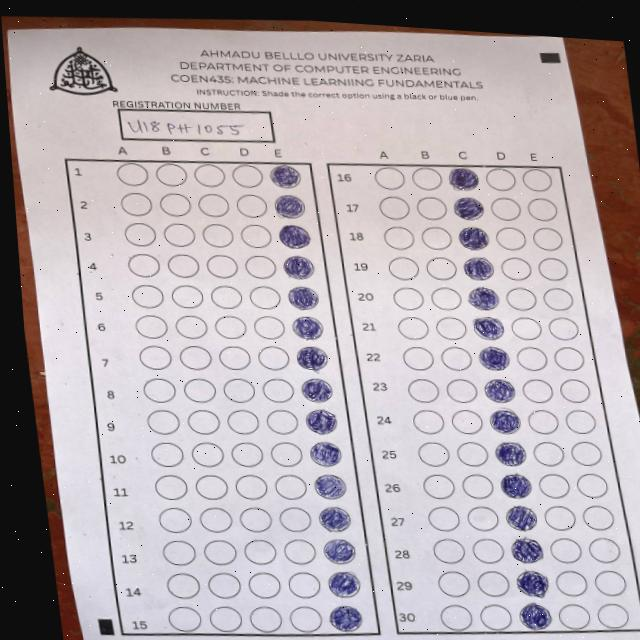bubble: (328, 603, 365, 634), (518, 601, 554, 632), (322, 537, 358, 567), (515, 569, 551, 599), (327, 570, 363, 599), (504, 504, 540, 533), (318, 505, 353, 534), (510, 537, 545, 566), (494, 440, 528, 469), (268, 163, 303, 191), (277, 223, 312, 251), (295, 345, 330, 373), (304, 408, 339, 436), (309, 440, 344, 468), (313, 473, 348, 501), (483, 377, 518, 405), (300, 376, 334, 404), (488, 408, 522, 436), (499, 472, 533, 500), (477, 345, 512, 372), (273, 193, 307, 220), (452, 195, 486, 222), (467, 285, 501, 312), (463, 256, 497, 283), (287, 285, 321, 312), (447, 166, 480, 193), (283, 254, 316, 281), (457, 225, 490, 252), (292, 315, 325, 342), (472, 315, 506, 341)
